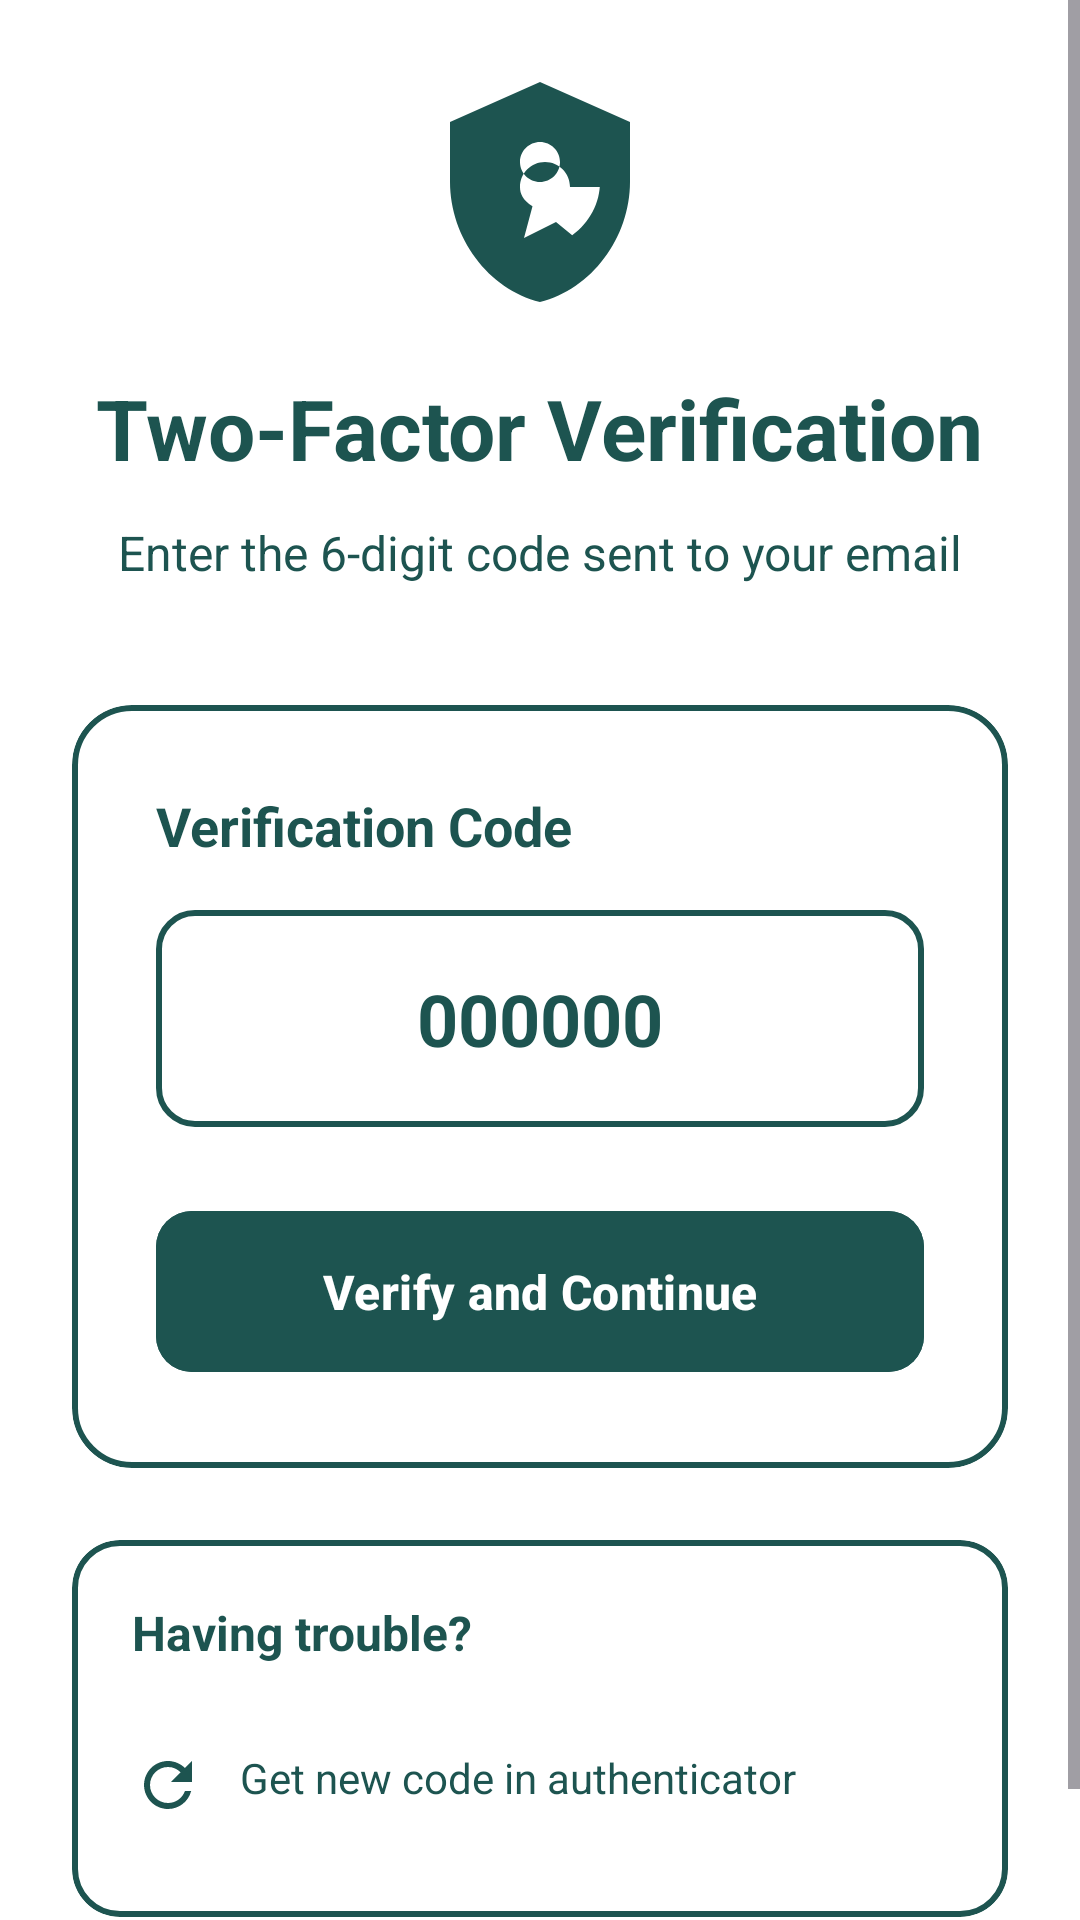

Icons on this 1080px x 1920px Android screen, each with the point to tap as (x,y):
Resend Code: (168,1785)
Two Factor Authentication: (540,192)
